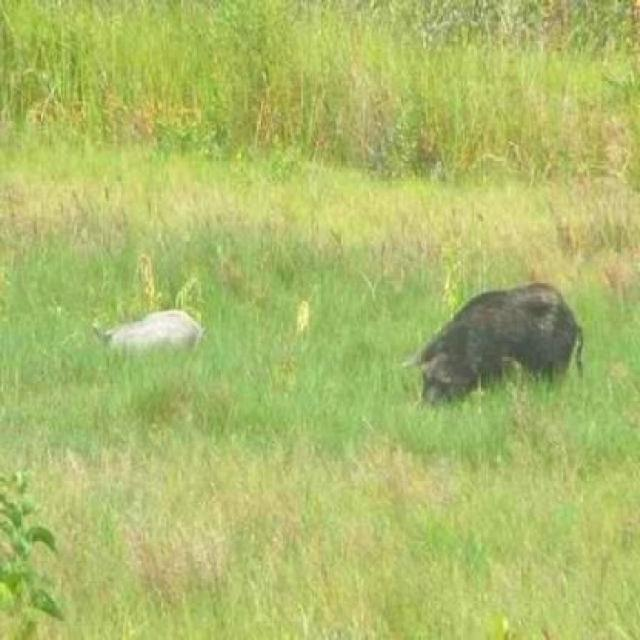Boar: (404, 277, 633, 403)
